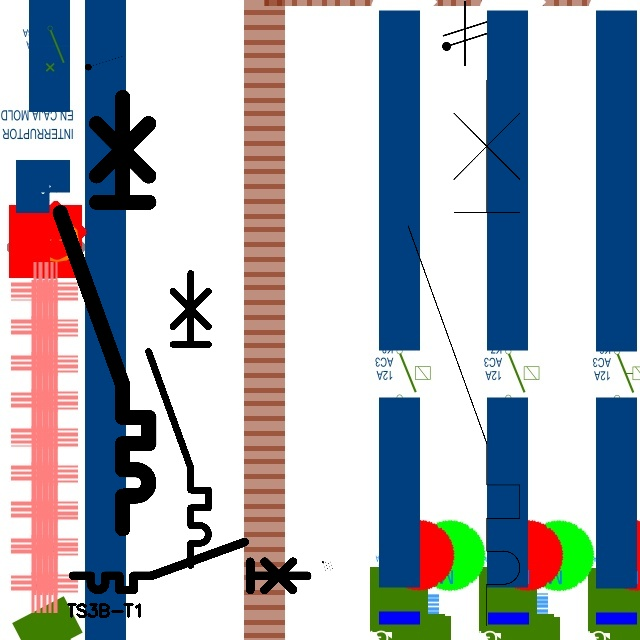interruptor_termomagnetico: (394, 65, 534, 639), (49, 86, 160, 540), (141, 266, 216, 573), (67, 536, 313, 596)
